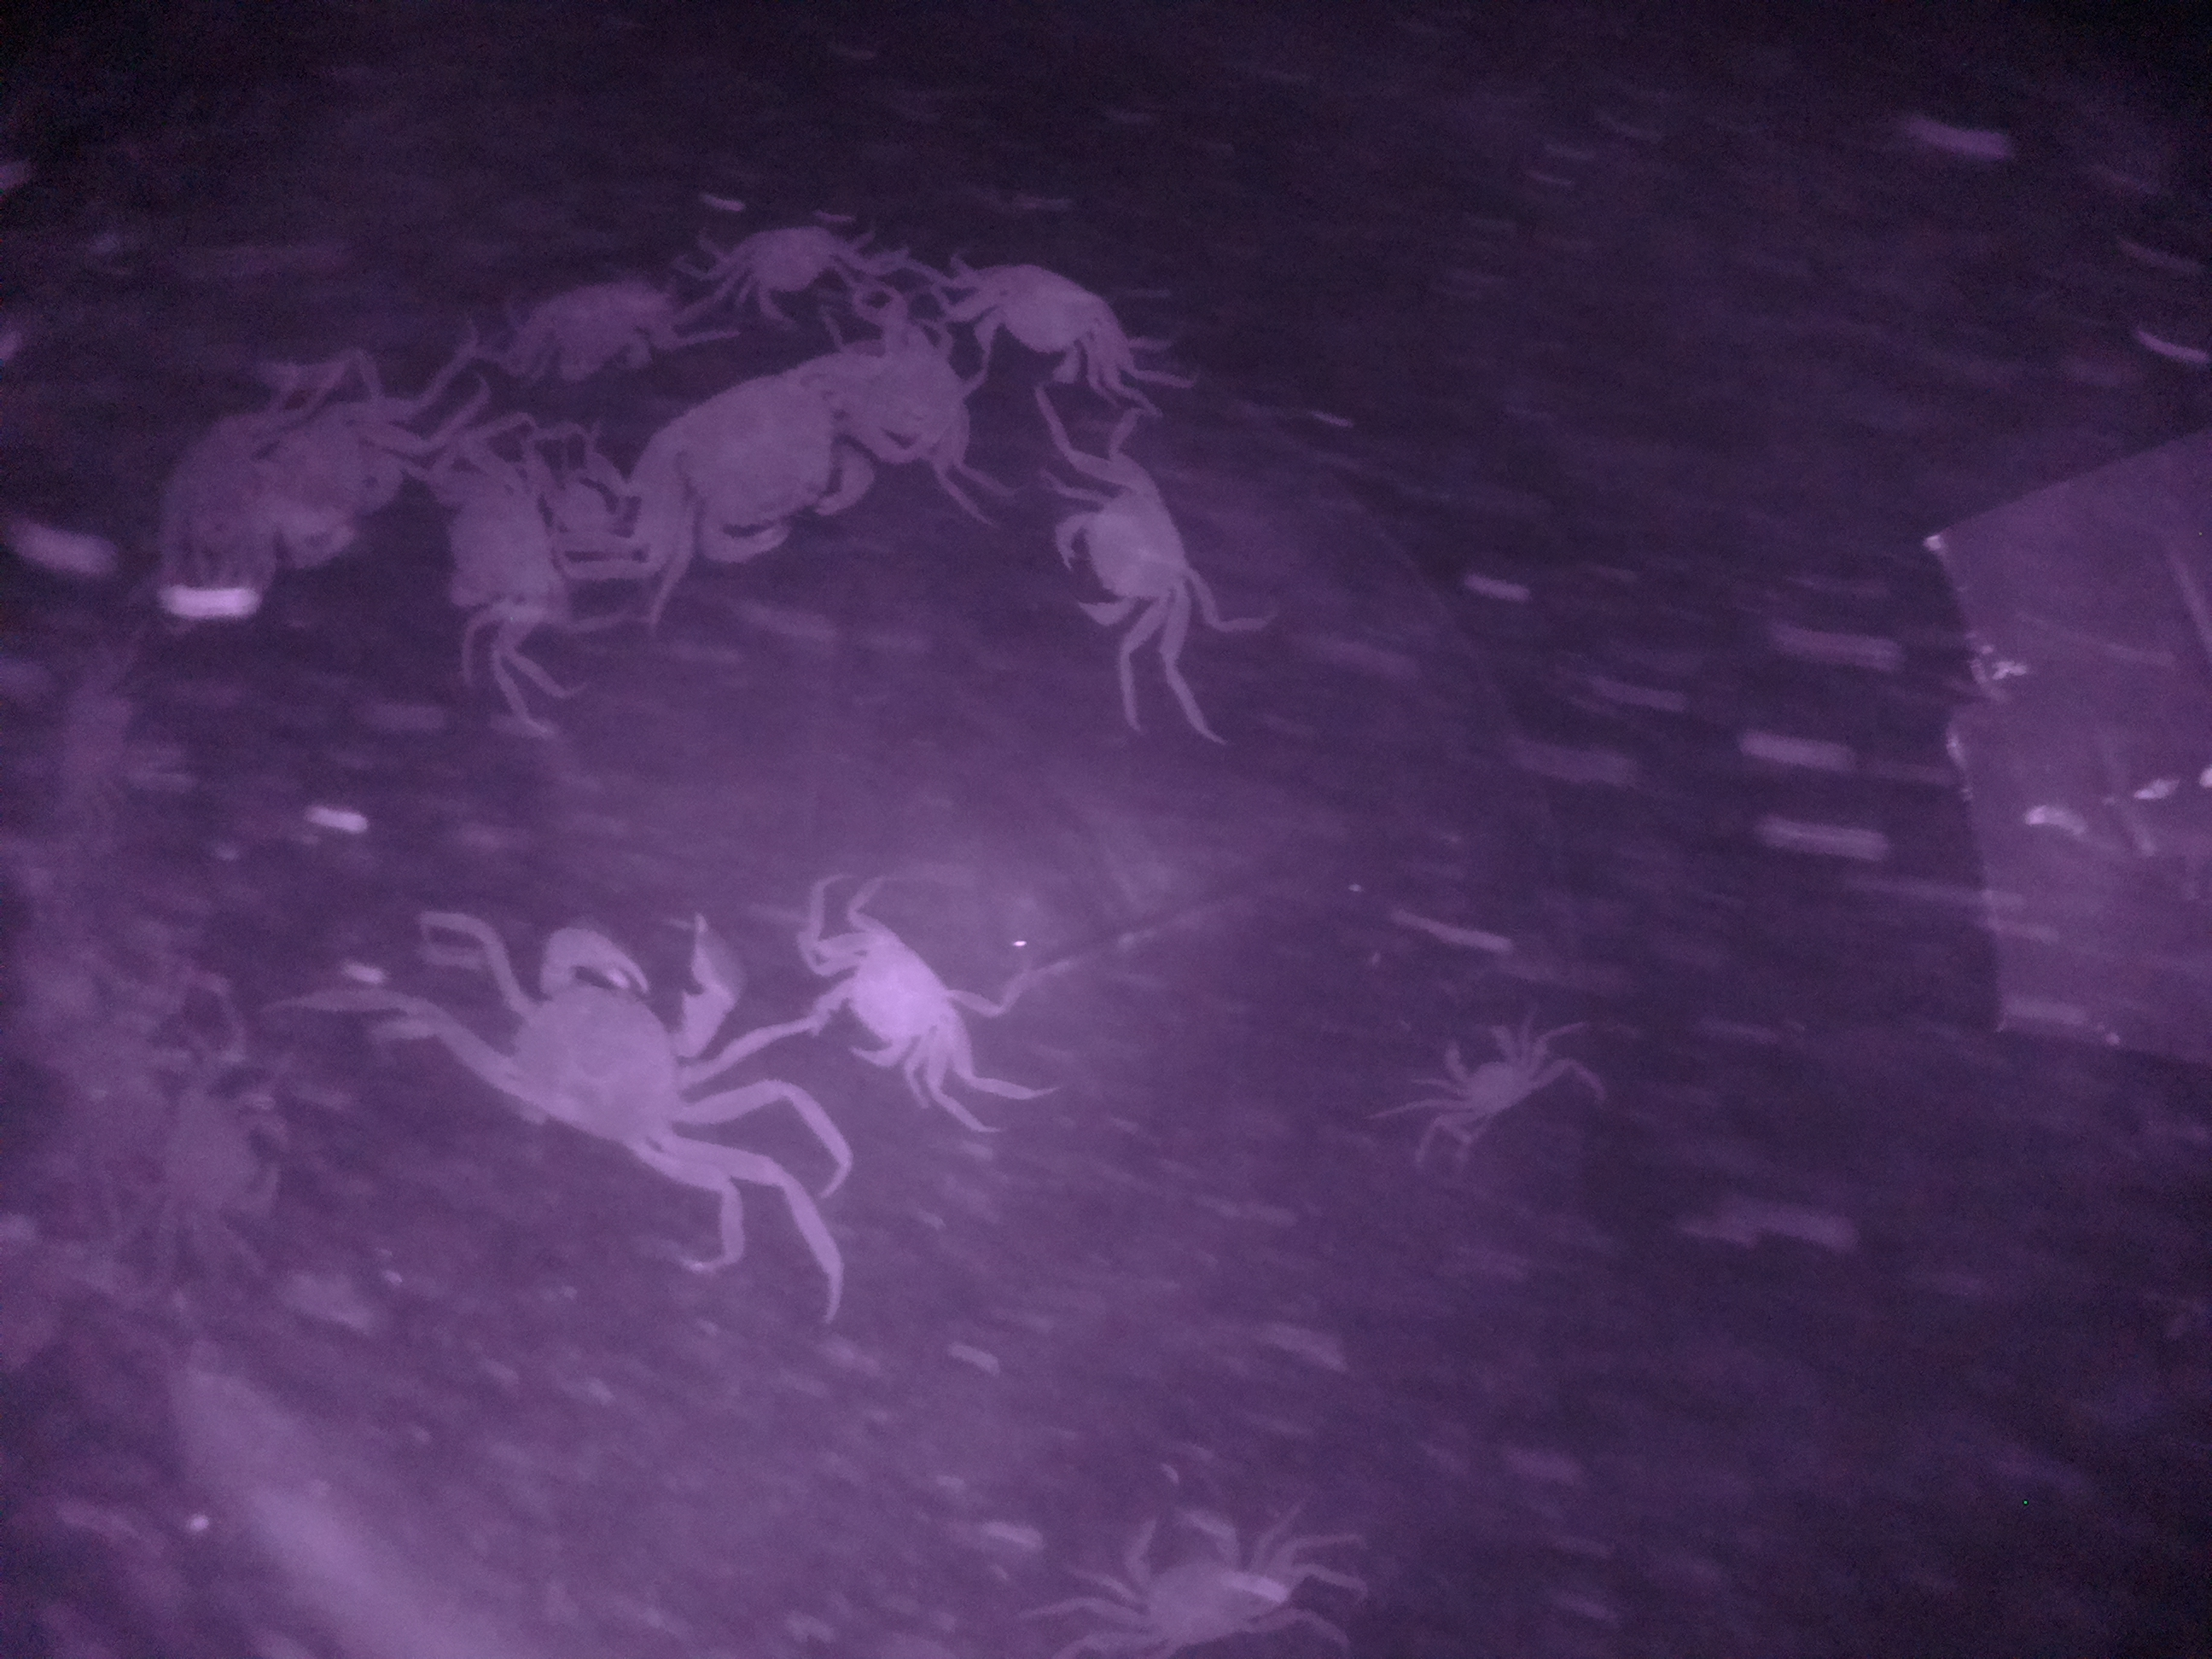Crab: (448, 903, 759, 1185), (646, 343, 885, 592), (806, 894, 986, 1108), (415, 427, 583, 653), (1045, 457, 1219, 659), (967, 240, 1160, 408)
